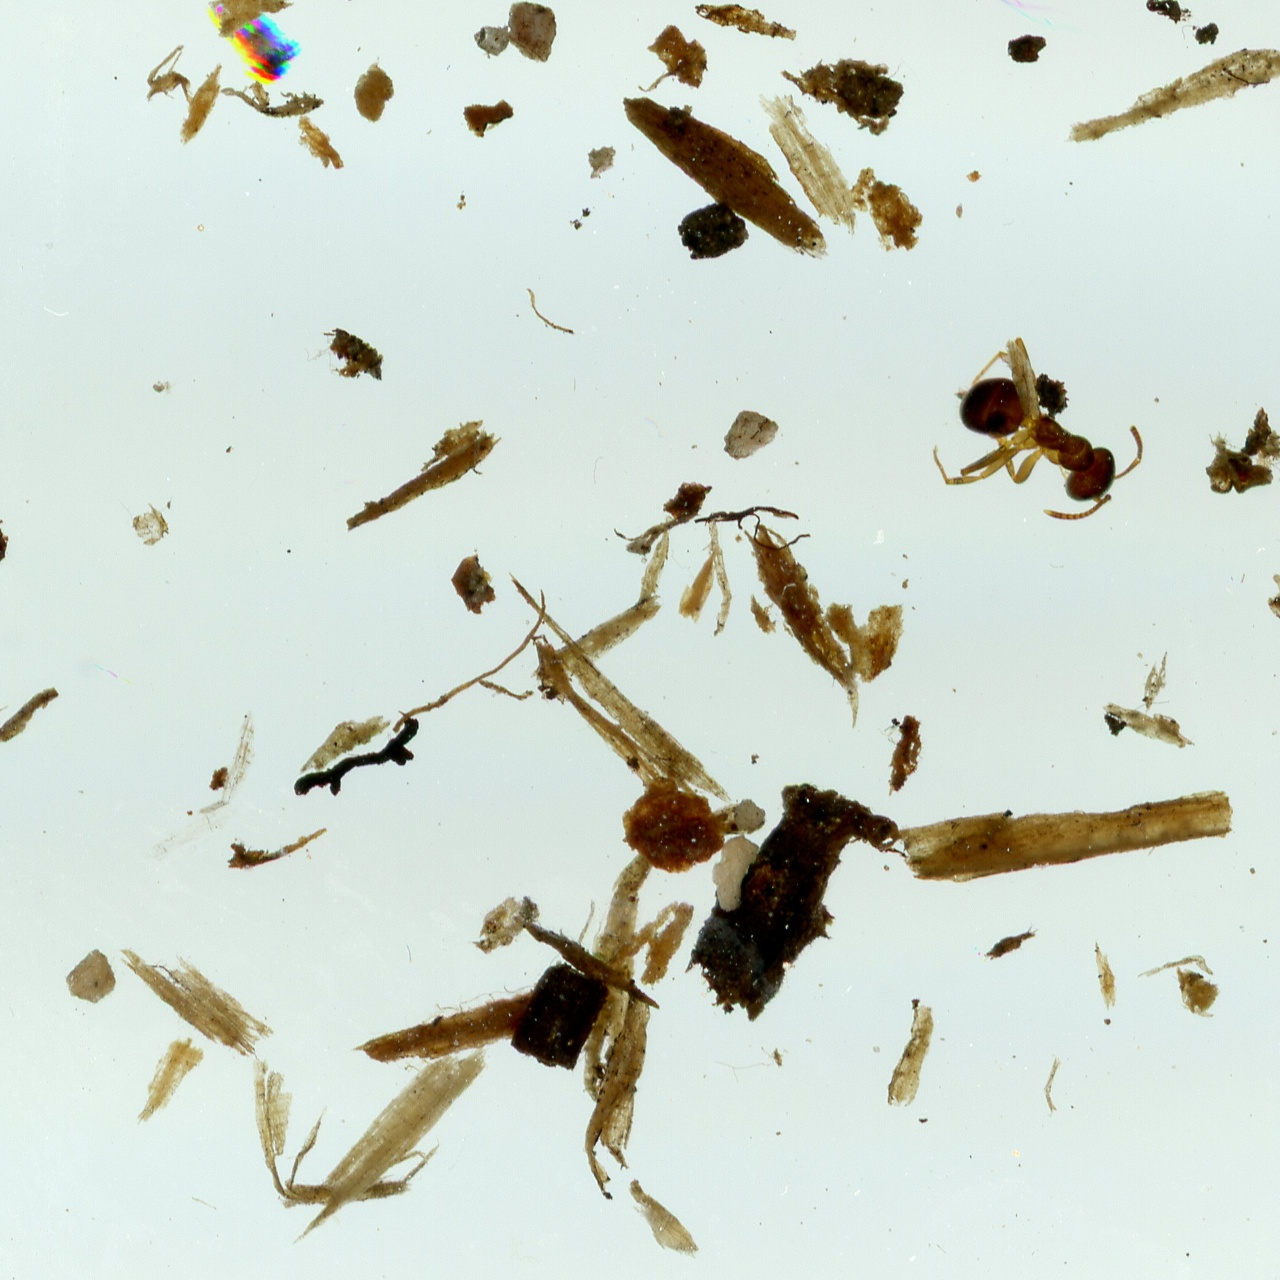arthropod: (927, 332, 1148, 525), (0, 503, 11, 566)
